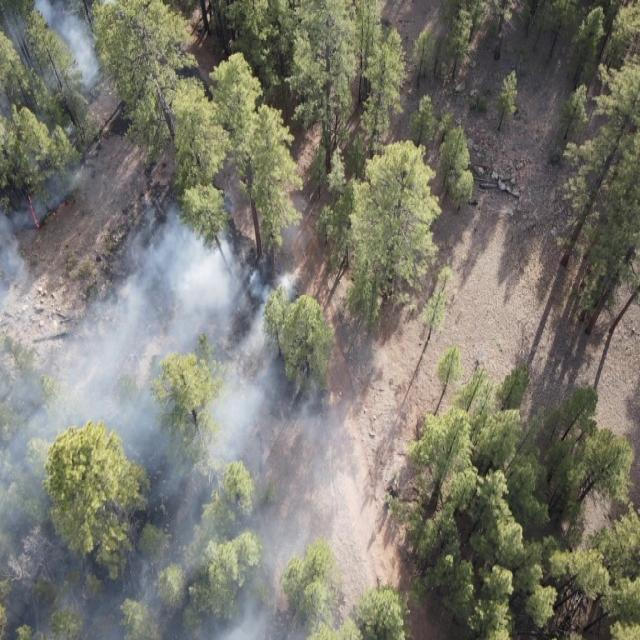fire: (25, 191, 41, 231), (43, 198, 71, 220)
smoke: (1, 144, 378, 640), (0, 0, 124, 111)
